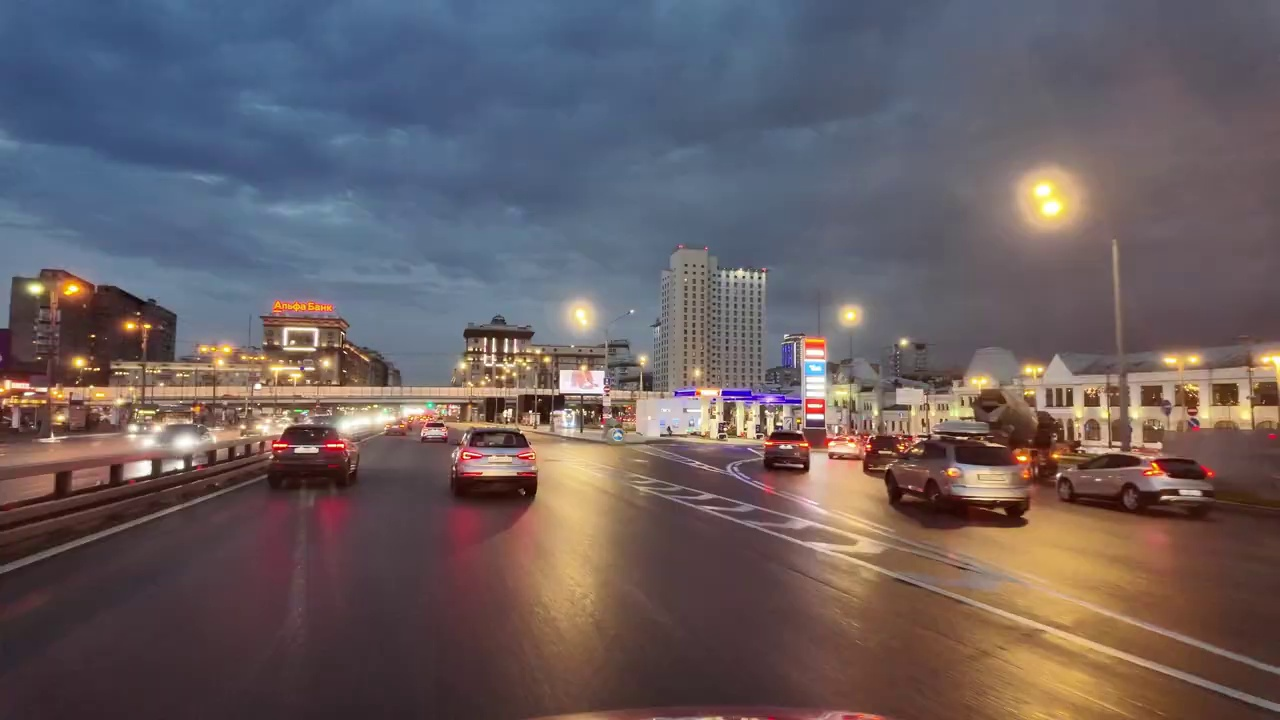acesa: (1023, 176, 1072, 227), (565, 301, 596, 330), (835, 302, 865, 329), (59, 278, 86, 302), (1261, 350, 1279, 378)
